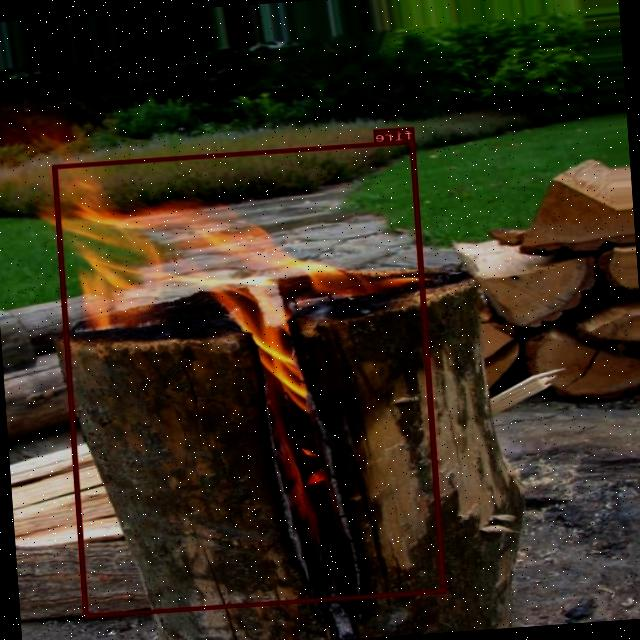fire: (54, 139, 448, 616)
